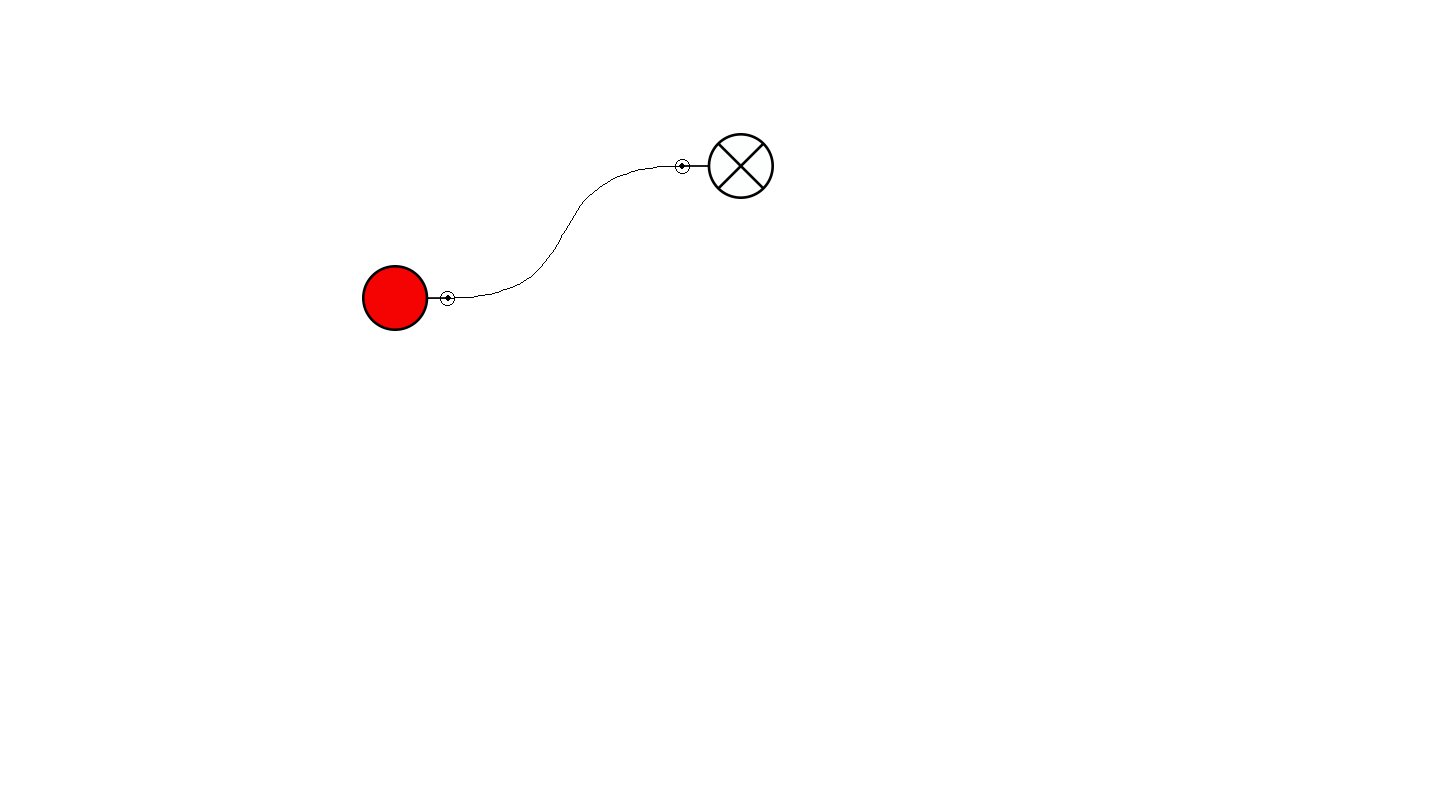bulb: (675, 133, 774, 199)
switch_False: (362, 265, 455, 331)
